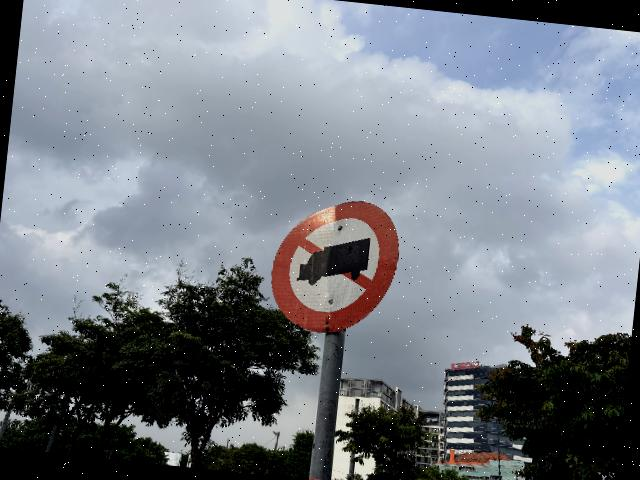cam-xe-tai: (265, 191, 404, 339)
